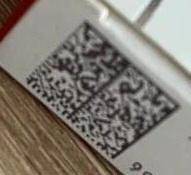datamatrix: (26, 21, 182, 160)
